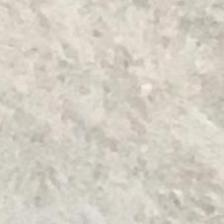Non_Crack: (19, 41, 191, 186)
